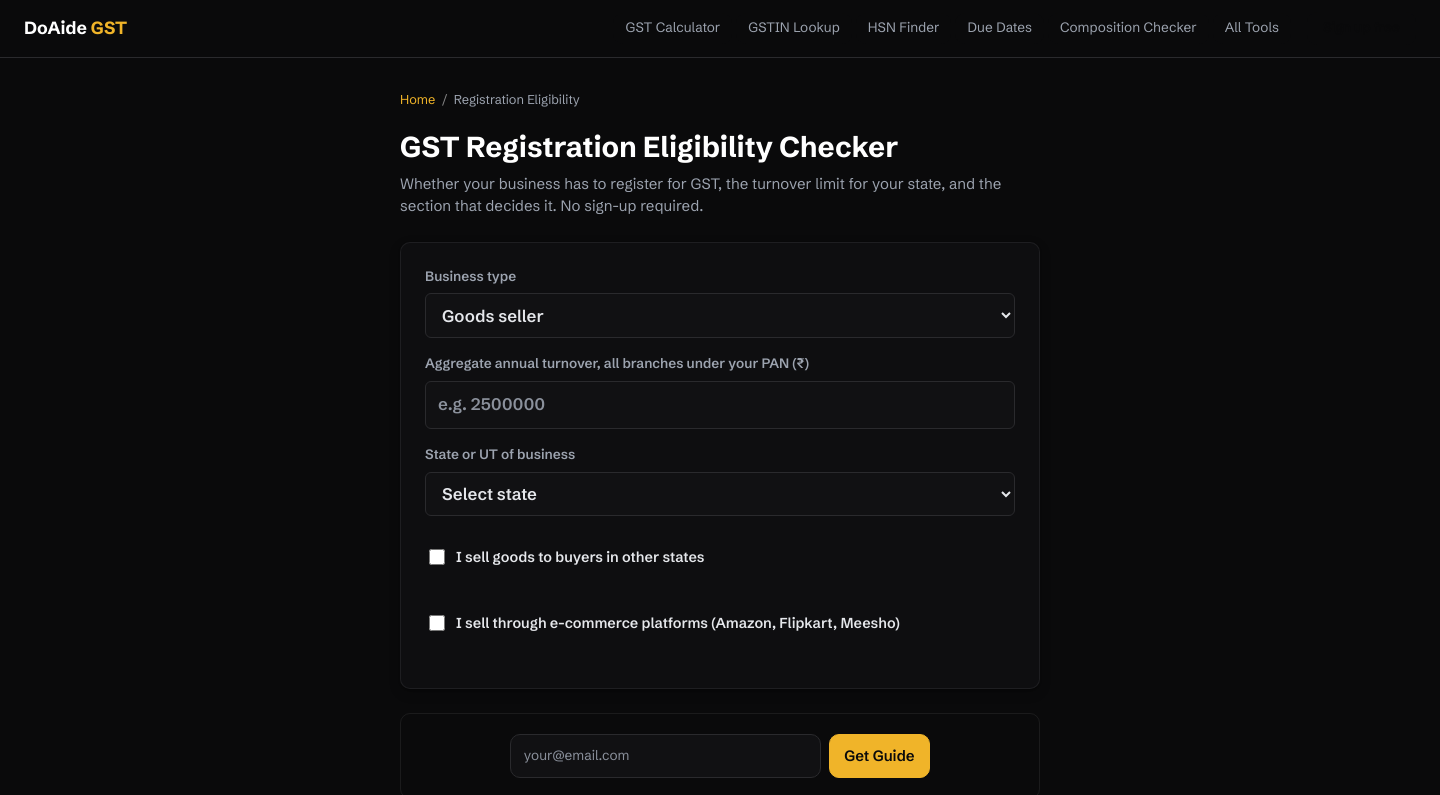
Scenario: RegistrationCheckerPage › lets an intra-state marketplace goods seller stay unregistered below the limit
Select "Karnataka" in the dropdown labelled "State or UT of business" at x=720, y=494, box [425,472,1015,516]
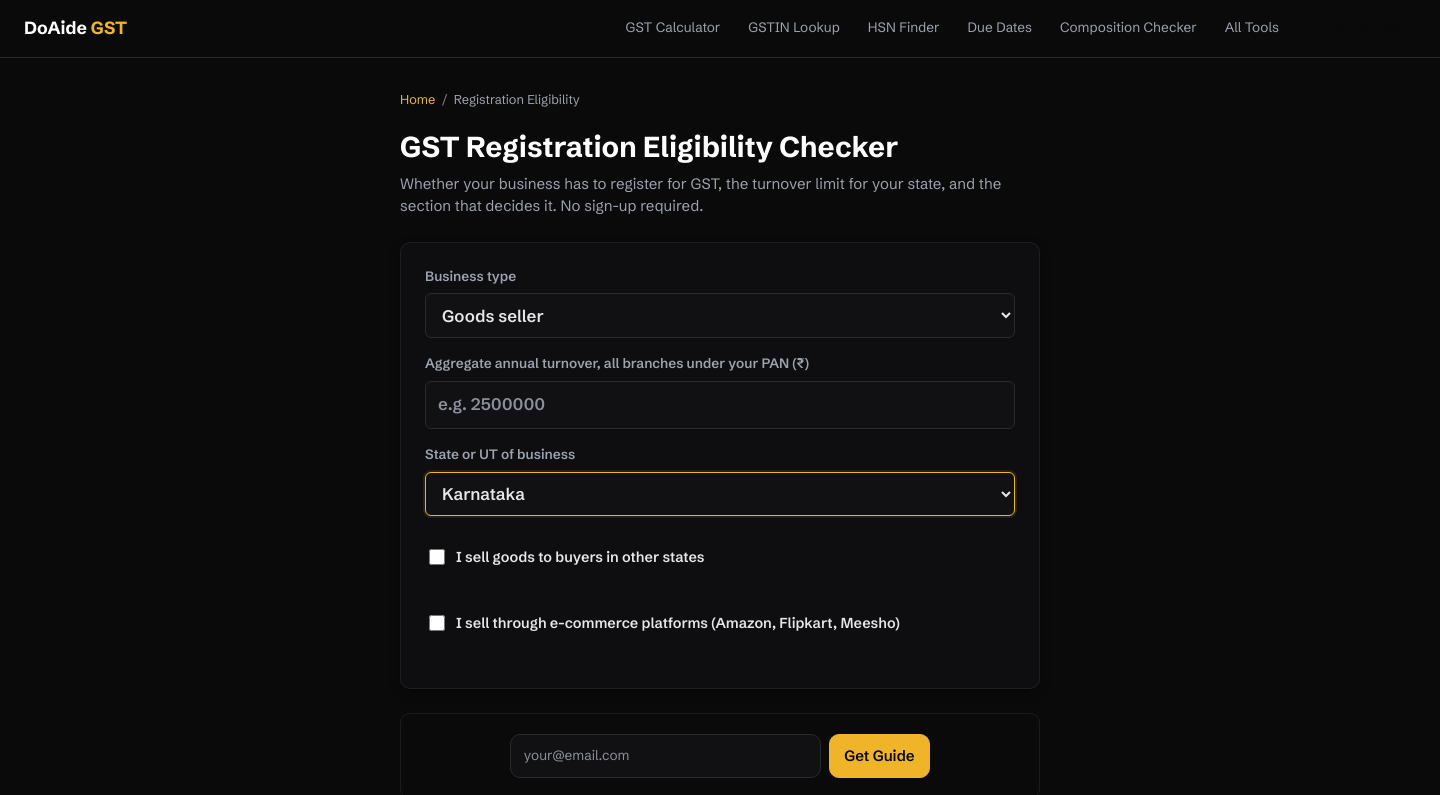
Type "800000" into the number field labelled "Aggregate annual turnover, all branches under your PAN (₹)" at x=720, y=405, box [425,381,1015,429]
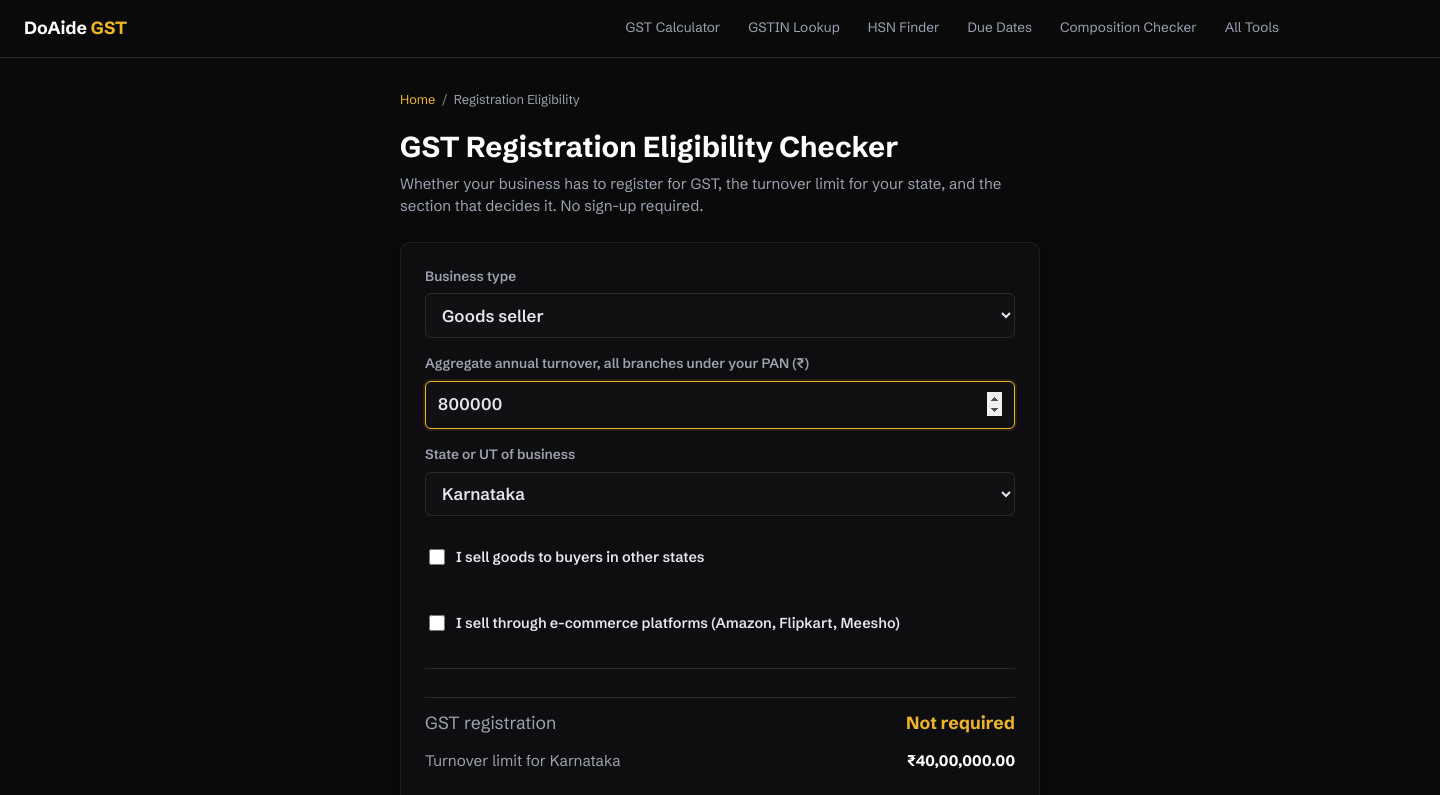
Click the checkbox labelled "e-commerce platforms" at x=437, y=623, box [429,601,445,645]
(page scrolled)
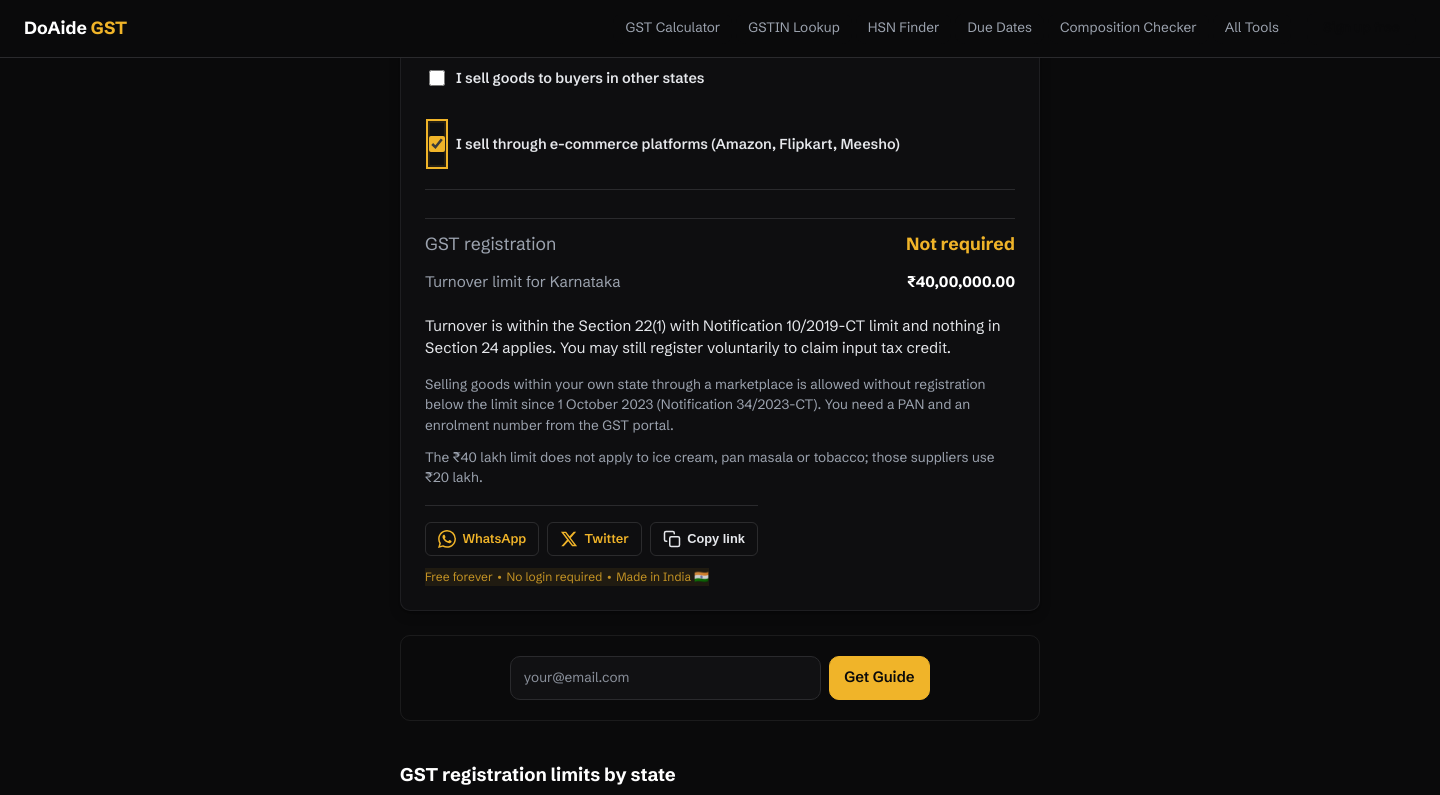
Now the text "GST registration" shows "Not required", box [906,233,1015,255]
Now the text "Notification 34/2023-CT" is shown, box [425,376,985,434]
